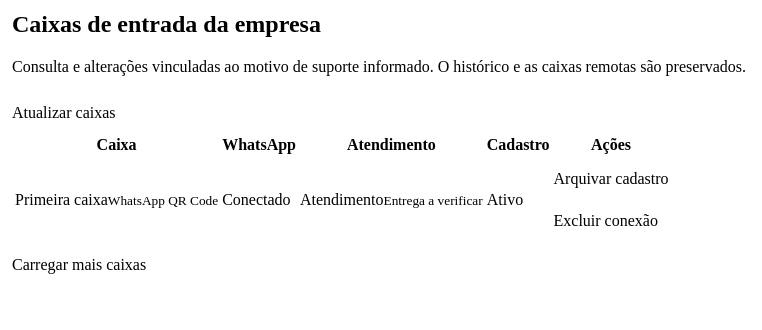
Scenario: refreshes from page one after archiving and offers the new continuation cursor
Click the button "Arquivar cadastro". click: (611, 179)
box: [554,158,669,200]
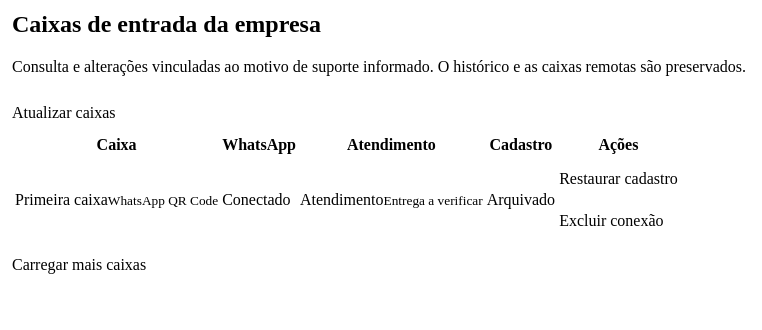
Expected: the button "Restaurar cadastro" is shown, [559,158,678,200]
Click the button "Carregar mais caixas". click: (79, 265)
box: [12,245,146,286]
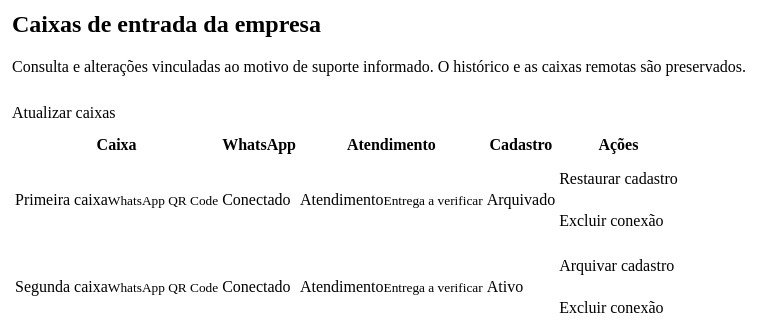
Expected: the text "Segunda caixa" is shown, [15,278,108,295]
